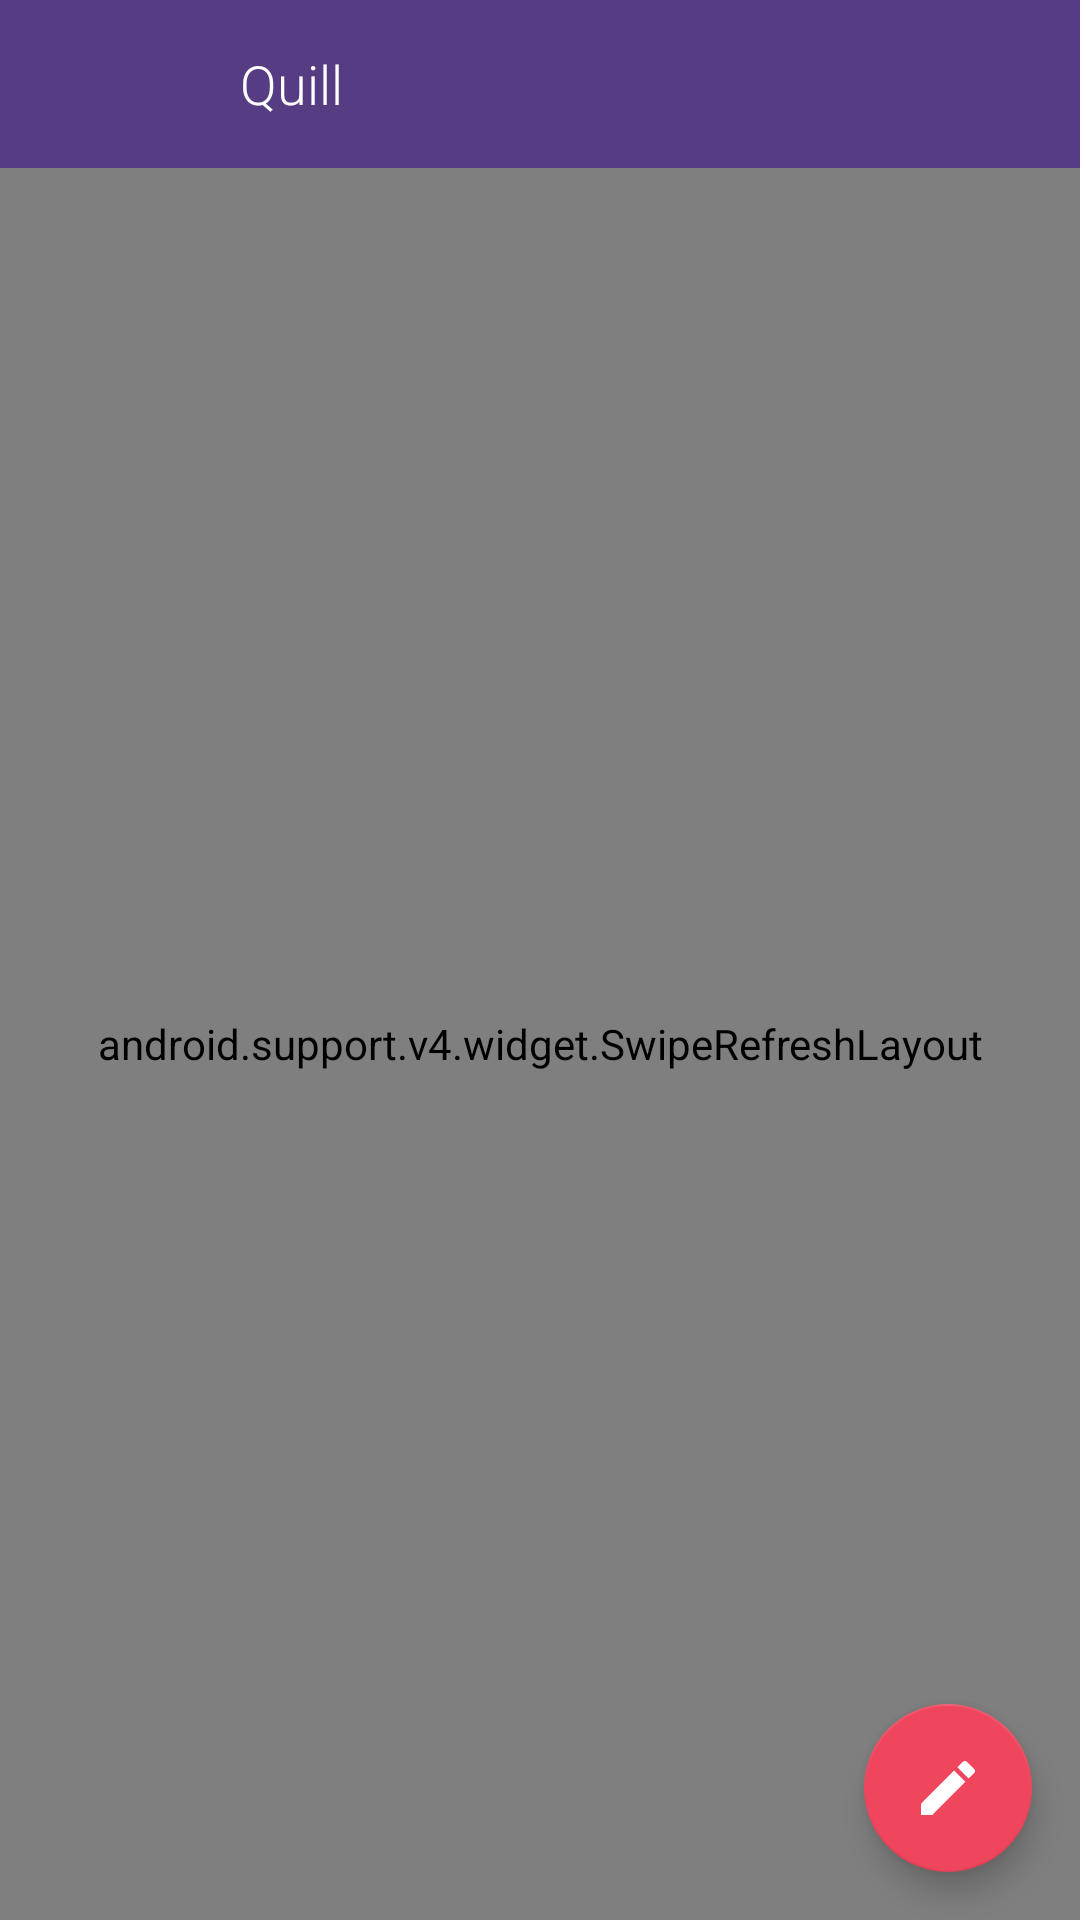

Icon click points for this 1080 x 1920 phone screenshot, format (x=x, y=y):
draft: (x=948, y=1788)
